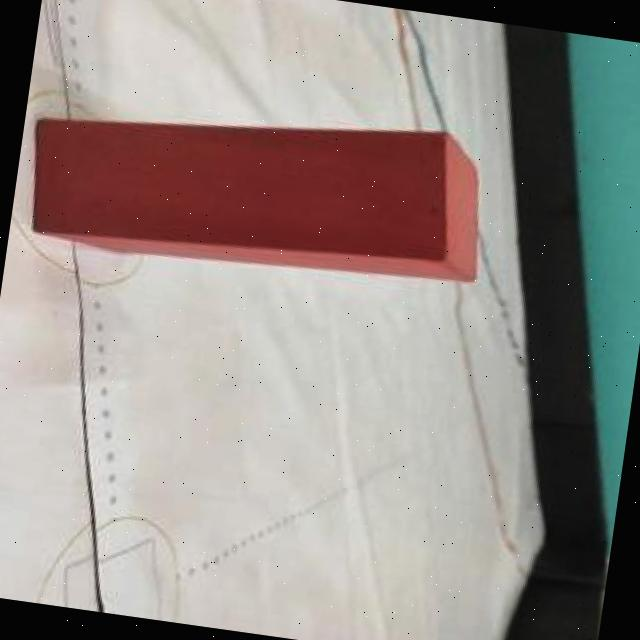redbox: (21, 74, 502, 299)
